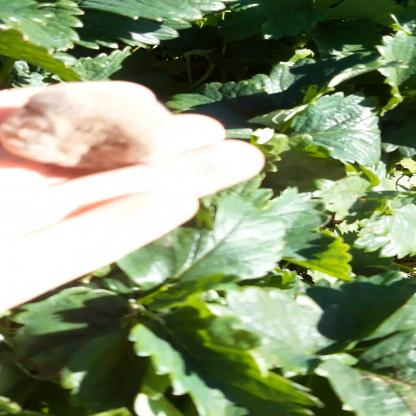ripe: (4, 87, 157, 172)
